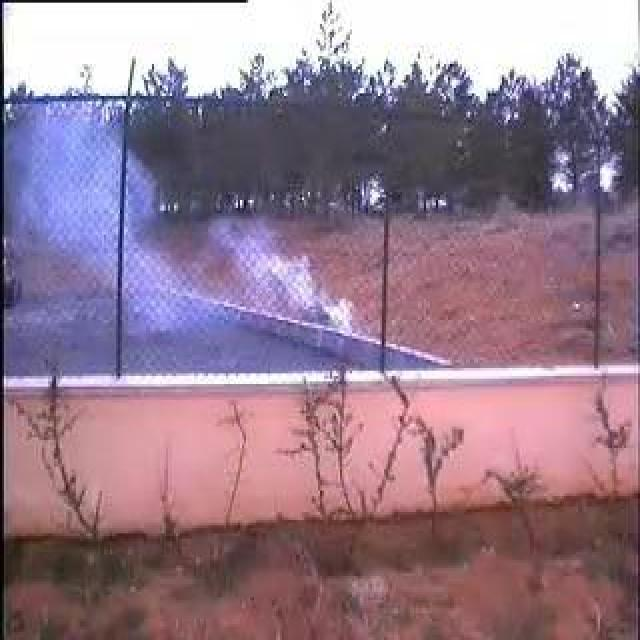Smoke: (126, 147, 354, 360)
